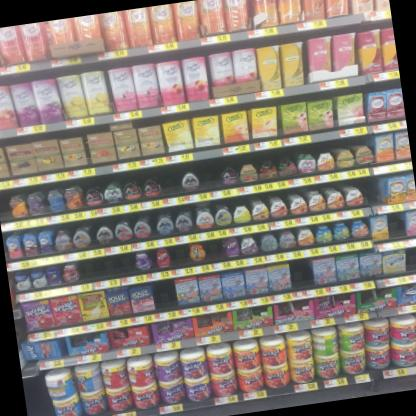empty_space: (77, 250, 138, 281), (22, 375, 50, 416), (194, 155, 224, 192), (152, 274, 182, 310), (358, 172, 388, 205), (155, 163, 183, 198), (288, 257, 316, 290), (385, 210, 411, 241), (0, 189, 14, 220), (403, 241, 416, 274)
